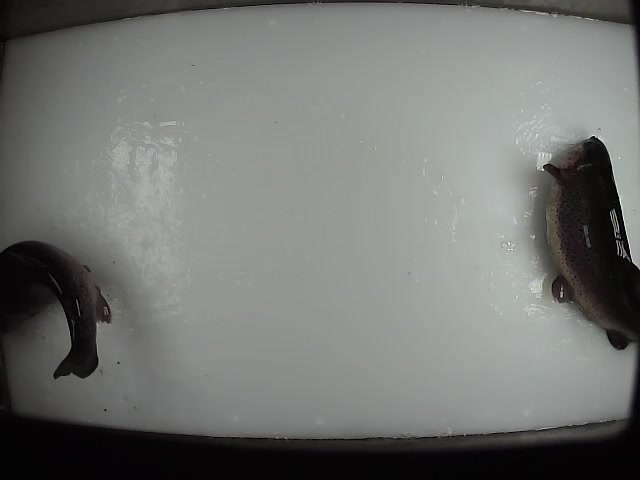fish: (543, 134, 640, 353), (1, 237, 116, 379)
